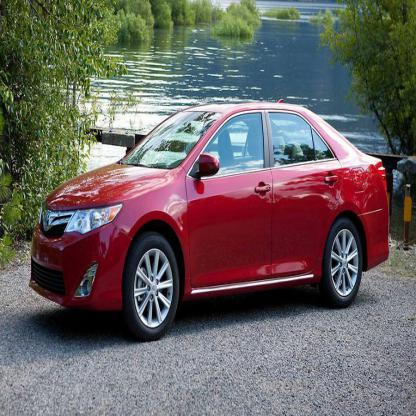Vehicle: (29, 102, 390, 342)
